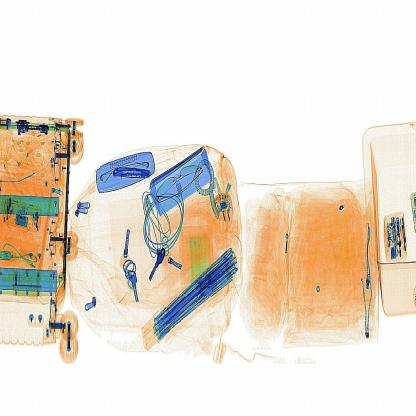knife: (114, 155, 154, 188)
